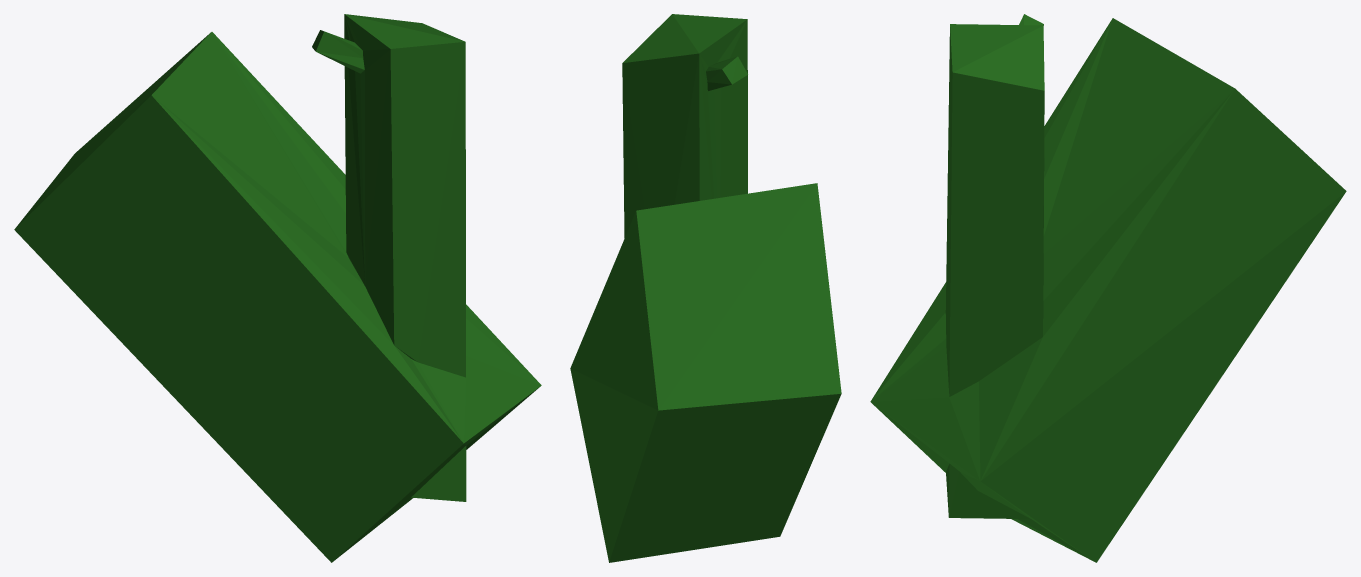
3 renders of one model, left to right at view 1: azimuth 30°, elevation 25°; view 2: azimuth 150°, elevation 25°; view 3: azimuth 270°, elevation 25°, orthographic. The views are drawn at different scales.
Visible parts, largest first — view 1: 712_Cube.2862; view 2: 712_Cube.2862; view 3: 712_Cube.2862.
Boxes of the visible parts, <box> form: 712_Cube.2862: <box>14,14,541,562</box>; 712_Cube.2862: <box>570,14,841,562</box>; 712_Cube.2862: <box>870,14,1346,562</box>.
Bounding box in the file's own units: 11.45 × 14.12 × 12.03.
